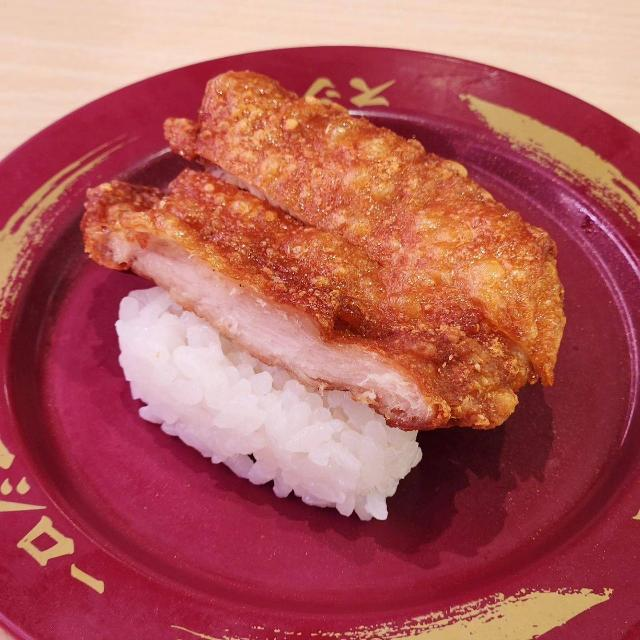janred: (28, 104, 628, 619)
